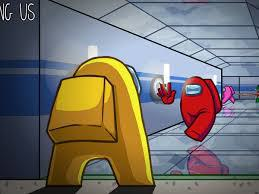amongus: (179, 77, 223, 142)
